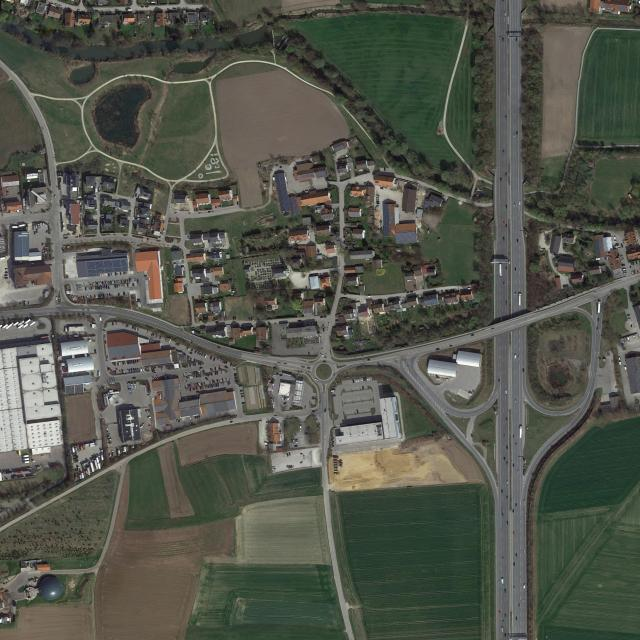large-vehicle: (96, 456, 101, 469), (6, 323, 14, 330), (90, 462, 95, 472), (18, 320, 25, 326), (2, 324, 9, 330), (95, 460, 99, 470), (499, 264, 502, 276), (29, 321, 36, 326), (24, 319, 31, 324), (12, 322, 19, 327), (22, 324, 29, 329), (598, 302, 601, 313), (18, 324, 24, 329), (520, 426, 522, 439), (519, 293, 521, 306), (28, 320, 34, 324), (19, 224, 26, 227), (77, 445, 80, 451), (86, 471, 89, 477), (23, 455, 29, 458), (23, 458, 29, 461), (24, 461, 30, 464), (265, 442, 269, 446), (501, 579, 504, 584), (627, 337, 630, 342), (101, 455, 104, 460), (12, 226, 19, 228), (84, 471, 86, 478), (82, 473, 84, 479), (73, 447, 75, 453), (502, 627, 504, 633), (127, 9, 132, 11), (331, 390, 336, 392), (100, 316, 102, 321), (65, 327, 67, 332), (505, 390, 507, 394), (633, 335, 635, 339), (625, 367, 627, 371), (25, 302, 27, 306), (124, 280, 126, 283), (491, 329, 494, 331), (467, 288, 471, 289), (515, 354, 516, 358), (368, 296, 371, 297), (353, 380, 354, 383)
small-vehicle: (315, 378, 319, 382), (300, 461, 304, 465), (205, 377, 209, 381), (513, 133, 516, 138), (67, 233, 72, 236), (194, 350, 197, 354), (436, 348, 440, 351), (201, 353, 204, 357), (102, 329, 106, 332), (287, 397, 290, 401), (140, 368, 143, 372), (211, 384, 214, 388), (505, 173, 508, 177), (197, 351, 200, 355), (55, 3, 59, 6), (500, 177, 502, 182), (503, 221, 505, 226), (239, 384, 242, 387), (199, 362, 202, 365), (213, 358, 216, 361), (220, 360, 223, 363), (367, 358, 370, 361), (309, 372, 312, 375), (152, 377, 155, 380), (272, 375, 275, 378), (198, 371, 201, 374), (235, 379, 238, 382), (471, 334, 474, 337), (225, 366, 228, 369), (115, 368, 118, 371), (185, 380, 188, 383), (189, 383, 191, 387), (209, 372, 211, 376), (212, 379, 214, 383), (215, 367, 217, 371), (205, 354, 207, 358), (210, 356, 212, 360), (209, 384, 211, 388), (224, 360, 226, 364), (368, 377, 370, 381), (272, 467, 276, 469), (272, 469, 276, 471), (288, 465, 290, 469), (289, 452, 291, 456), (287, 453, 289, 457), (102, 281, 104, 285), (108, 273, 110, 277), (93, 282, 95, 286), (133, 360, 135, 364), (145, 6, 149, 8), (112, 322, 114, 326), (133, 368, 135, 372), (153, 368, 155, 372), (151, 368, 153, 372), (135, 279, 137, 283), (131, 368, 133, 372), (153, 372, 157, 374), (516, 616, 518, 620), (286, 465, 288, 469), (294, 445, 298, 447), (252, 317, 254, 321), (513, 585, 515, 589), (234, 377, 238, 379), (216, 383, 218, 387), (148, 405, 152, 407), (217, 358, 219, 362), (131, 360, 133, 364), (504, 12, 506, 16), (471, 434, 473, 438), (519, 201, 521, 205), (505, 116, 507, 120), (356, 379, 358, 383), (274, 415, 278, 417), (503, 237, 505, 241), (514, 267, 516, 271), (503, 283, 505, 287), (515, 292, 517, 296), (623, 271, 627, 273), (597, 327, 599, 331), (623, 269, 627, 271), (632, 271, 634, 275), (614, 240, 618, 242), (499, 611, 501, 615), (506, 521, 508, 525), (515, 442, 517, 446), (523, 368, 525, 372), (503, 150, 505, 154), (117, 362, 119, 366), (104, 337, 106, 341), (90, 295, 92, 299), (108, 281, 110, 285), (107, 234, 111, 236), (72, 234, 76, 236), (112, 272, 114, 276), (90, 286, 92, 290), (137, 283, 139, 287), (96, 295, 98, 299), (103, 294, 105, 298), (101, 294, 103, 298), (242, 402, 245, 404), (227, 382, 229, 385), (193, 387, 195, 390), (194, 363, 196, 366), (207, 374, 209, 377), (206, 385, 208, 388), (189, 373, 191, 376), (191, 376, 193, 379), (187, 389, 189, 392), (208, 385, 210, 388), (225, 378, 227, 381), (222, 378, 224, 381), (226, 361, 228, 364), (215, 372, 217, 375), (189, 364, 191, 367), (377, 202, 380, 204), (363, 378, 365, 381), (365, 378, 367, 381), (376, 199, 379, 201), (376, 197, 379, 199), (376, 195, 379, 197), (505, 614, 507, 617), (358, 379, 360, 382), (240, 390, 243, 392), (233, 316, 235, 319), (300, 454, 303, 456), (191, 349, 193, 352), (85, 287, 87, 290), (95, 286, 97, 289), (97, 286, 99, 289), (100, 286, 102, 289), (104, 286, 106, 289), (109, 293, 111, 296), (83, 296, 85, 299), (107, 294, 109, 297), (118, 293, 120, 296), (123, 292, 125, 295), (116, 285, 118, 288), (118, 285, 120, 288), (110, 281, 112, 284), (112, 281, 114, 284), (114, 281, 116, 284), (108, 286, 110, 289), (97, 282, 99, 285), (87, 296, 89, 299), (116, 281, 118, 284), (135, 368, 137, 371), (129, 360, 131, 363), (99, 188, 101, 191), (60, 5, 63, 7), (141, 6, 144, 8), (119, 370, 121, 373), (133, 377, 136, 379), (127, 284, 129, 287), (127, 370, 129, 373), (129, 369, 131, 372), (149, 425, 152, 427), (286, 397, 288, 400), (282, 397, 284, 400), (284, 397, 286, 400), (292, 466, 294, 469), (295, 439, 298, 441), (320, 316, 323, 318), (324, 316, 327, 318), (349, 168, 351, 171), (346, 154, 348, 157), (199, 353, 201, 356), (213, 384, 215, 387), (230, 363, 232, 366), (137, 368, 139, 371), (234, 373, 237, 375), (135, 360, 137, 363), (513, 532, 515, 535), (502, 558, 504, 561), (516, 131, 518, 134), (513, 435, 515, 438), (506, 418, 508, 421), (193, 359, 195, 362), (200, 367, 203, 369), (598, 318, 600, 321), (628, 318, 631, 320), (627, 314, 630, 316), (634, 271, 636, 274), (618, 247, 621, 249), (538, 247, 541, 249), (636, 261, 638, 264), (501, 490, 503, 493), (506, 462, 508, 465), (506, 446, 508, 449), (503, 435, 505, 438), (515, 399, 517, 402), (186, 373, 188, 376), (199, 383, 201, 386), (203, 370, 205, 373), (211, 373, 213, 376), (102, 286, 104, 289), (94, 294, 96, 297), (102, 274, 104, 277), (98, 282, 100, 285), (100, 282, 102, 285), (507, 496, 508, 501), (217, 371, 218, 375), (367, 377, 368, 381), (321, 355, 323, 357), (450, 345, 452, 347), (505, 634, 506, 638), (362, 378, 363, 382), (218, 205, 219, 209), (295, 435, 297, 437), (292, 439, 293, 443), (117, 272, 118, 276), (123, 361, 124, 365), (128, 360, 129, 364), (122, 324, 124, 326), (57, 305, 59, 307), (291, 465, 292, 469), (148, 417, 152, 418), (122, 369, 123, 373), (518, 469, 519, 473), (514, 562, 515, 566), (524, 584, 525, 588), (194, 376, 196, 378), (506, 205, 507, 209), (506, 224, 507, 228), (506, 267, 507, 271), (518, 355, 519, 359), (505, 589, 506, 593), (516, 503, 517, 507), (524, 499, 525, 503), (504, 457, 505, 461), (73, 232, 77, 233), (115, 285, 116, 289), (200, 374, 201, 377), (190, 388, 191, 391), (217, 379, 218, 382), (241, 397, 244, 398), (218, 383, 219, 386), (193, 363, 194, 366), (192, 388, 193, 391), (221, 383, 222, 386), (188, 384, 189, 387), (187, 364, 188, 367), (376, 201, 379, 202), (190, 417, 191, 420), (251, 317, 252, 320), (249, 317, 250, 320), (111, 273, 112, 276), (99, 286, 100, 289), (105, 282, 106, 285), (107, 282, 108, 285), (115, 273, 116, 276), (120, 272, 121, 275), (89, 287, 90, 290), (95, 282, 96, 285), (118, 280, 119, 283), (121, 280, 122, 283), (124, 361, 125, 364), (55, 195, 56, 198), (133, 283, 134, 286), (124, 370, 125, 373), (148, 395, 151, 396), (519, 604, 520, 607), (524, 599, 525, 602), (293, 440, 294, 443), (305, 406, 306, 409), (295, 442, 298, 443), (143, 368, 144, 371), (234, 376, 237, 377), (137, 360, 138, 363), (513, 34, 514, 37), (513, 510, 514, 513), (507, 481, 508, 484), (514, 203, 515, 206), (506, 302, 507, 305), (624, 273, 627, 274), (633, 262, 634, 265), (630, 265, 631, 268), (503, 38, 504, 41), (516, 38, 517, 41), (516, 553, 517, 556), (513, 464, 514, 467), (517, 239, 518, 242), (78, 10, 81, 11), (56, 297, 57, 300), (119, 362, 120, 365), (194, 371, 195, 374), (29, 302, 30, 305), (127, 280, 128, 283), (241, 394, 243, 395), (204, 374, 205, 376), (198, 375, 199, 377), (191, 364, 192, 366), (190, 376, 191, 378), (235, 317, 236, 319), (106, 286, 107, 288), (124, 272, 125, 274), (139, 360, 140, 362), (631, 325, 632, 327), (20, 303, 21, 305), (499, 379, 499, 383)
